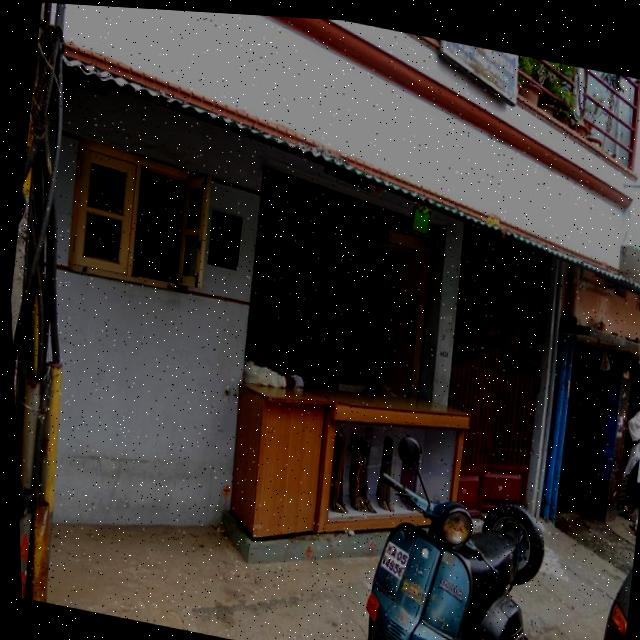motorcycle: (345, 424, 571, 640)
